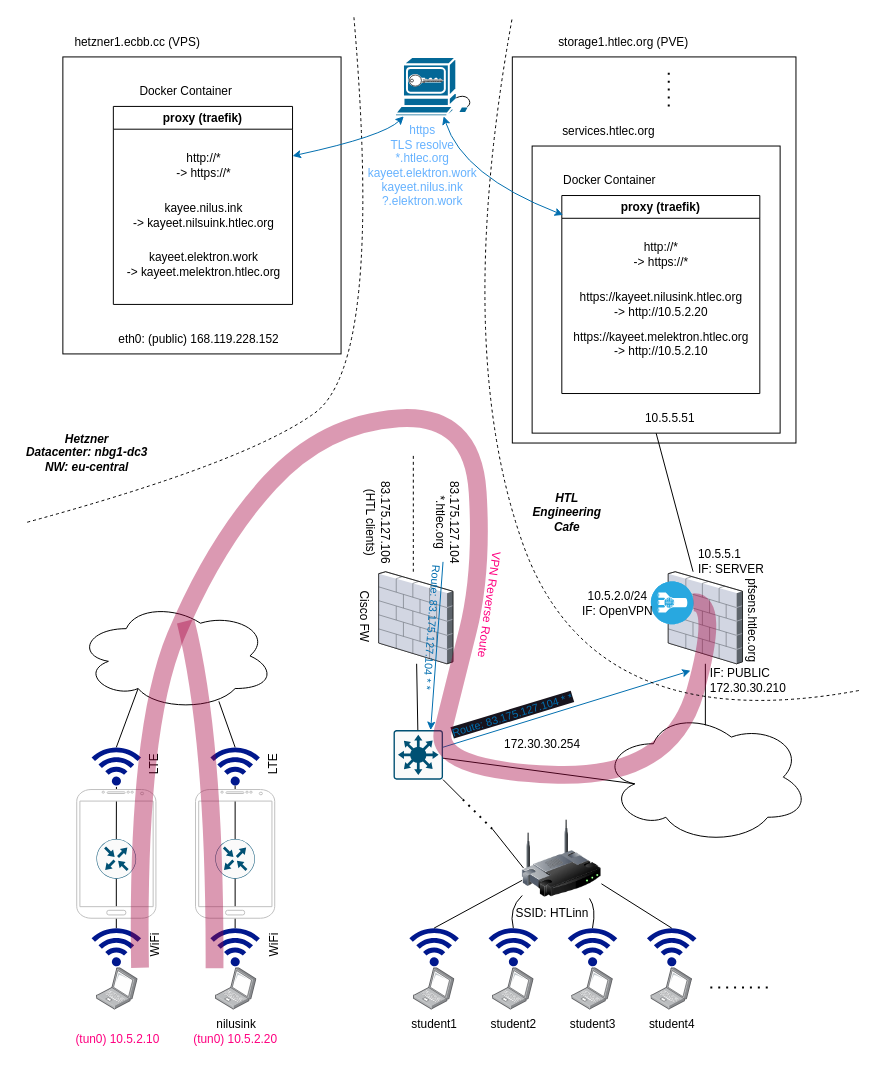
Some shapes in this 876 by 1072 pixel diagram are drawn without their labels. The shapes that lost their labels are listed below. From the top down, each one's box as (x1, y1, x2, y2) in pixels, then its label:
(394, 55, 474, 117): LE TLS Challange Server
(76, 600, 275, 710): LTE Carrier CGNAT
(393, 729, 443, 780): Main L3
(600, 709, 809, 844): Transfer Network 172.30.30.0/24
(96, 967, 138, 1009): elektronlab
